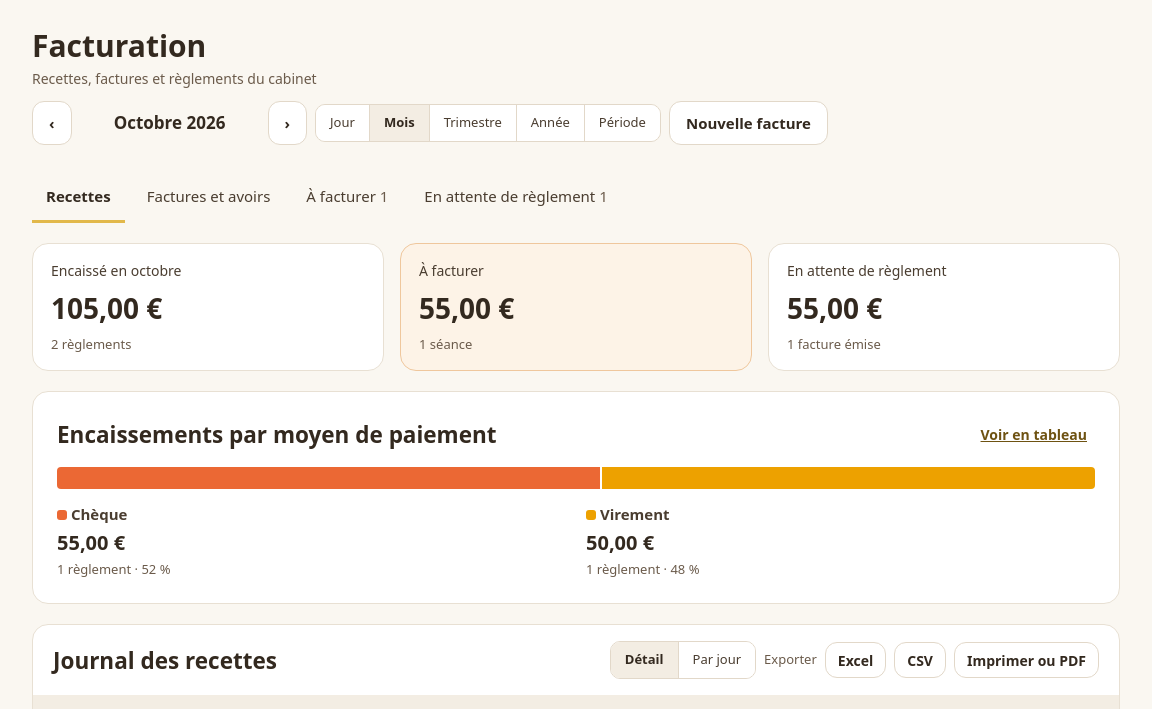
Test: facturation › montre les recettes du mois, la répartition par moyen et le journal
Expected: the text "105,00 €" is shown, [51,288,162,326]
Expected: the text "2 règlements" is shown, [51,334,131,352]
Step 1. Click the button "Voir en tableau" → (1034, 434), box [972,416,1095,453]
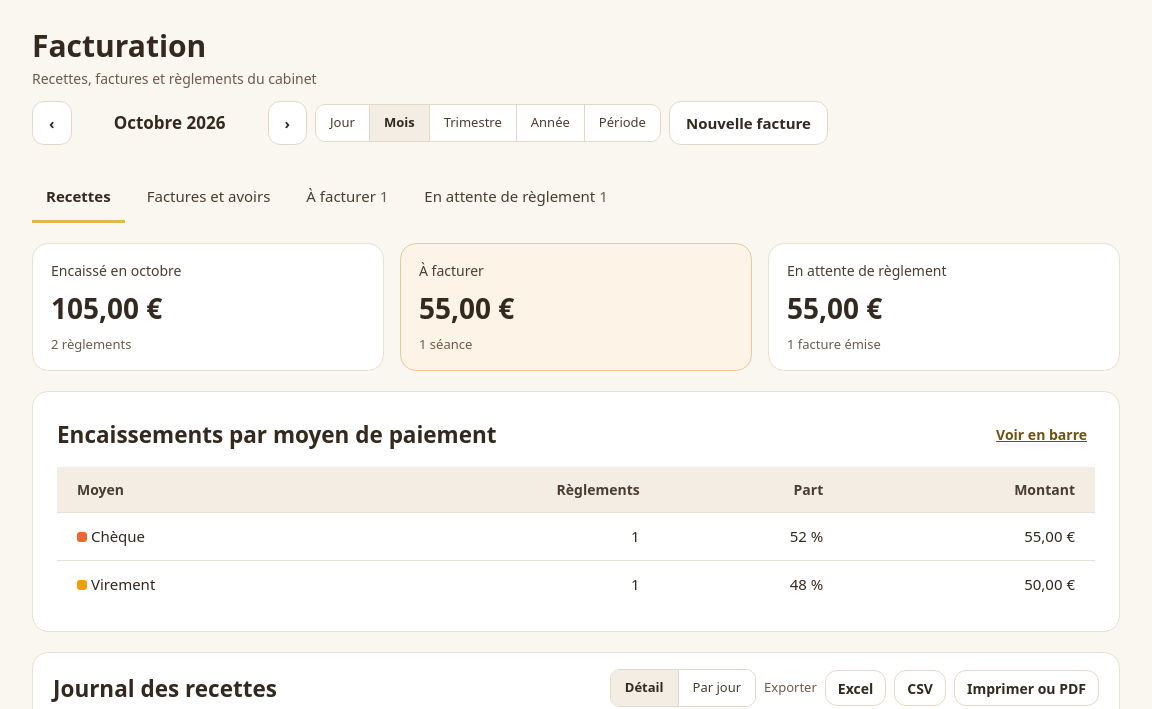
Expected: the table is shown, [57,467,1095,607]
Step 2. Click the button named "Période précédente" → (52, 123), box [32,101,72,145]
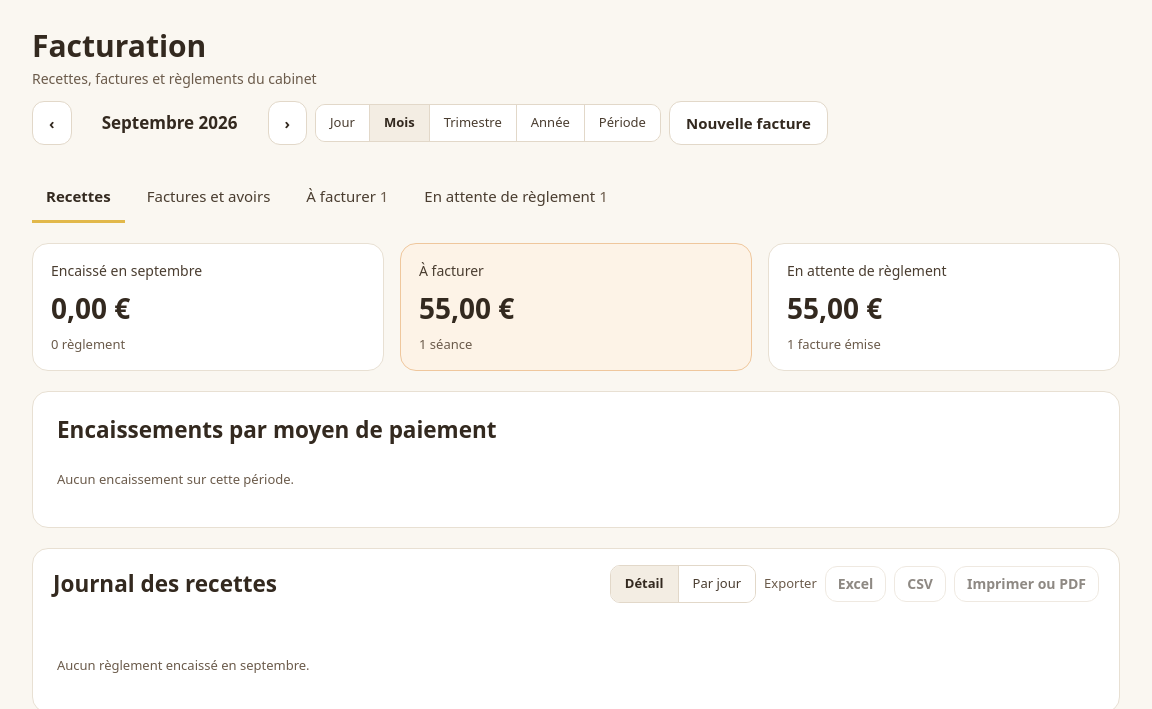
Expected: the text "Septembre 2026" is shown, [102,111,237,134]
Expected: the text "Aucun règlement encaissé en septembre." is shown, [57,656,310,674]
